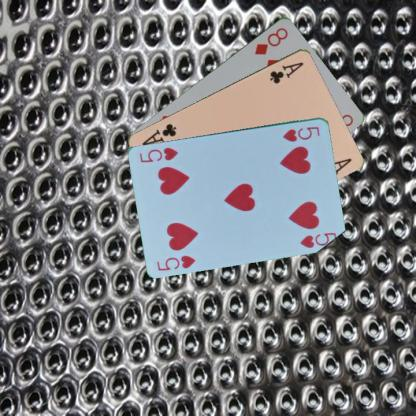5h: (154, 252, 197, 271), (280, 124, 321, 143)
8d: (252, 24, 289, 56)
Ac: (267, 59, 305, 85)
